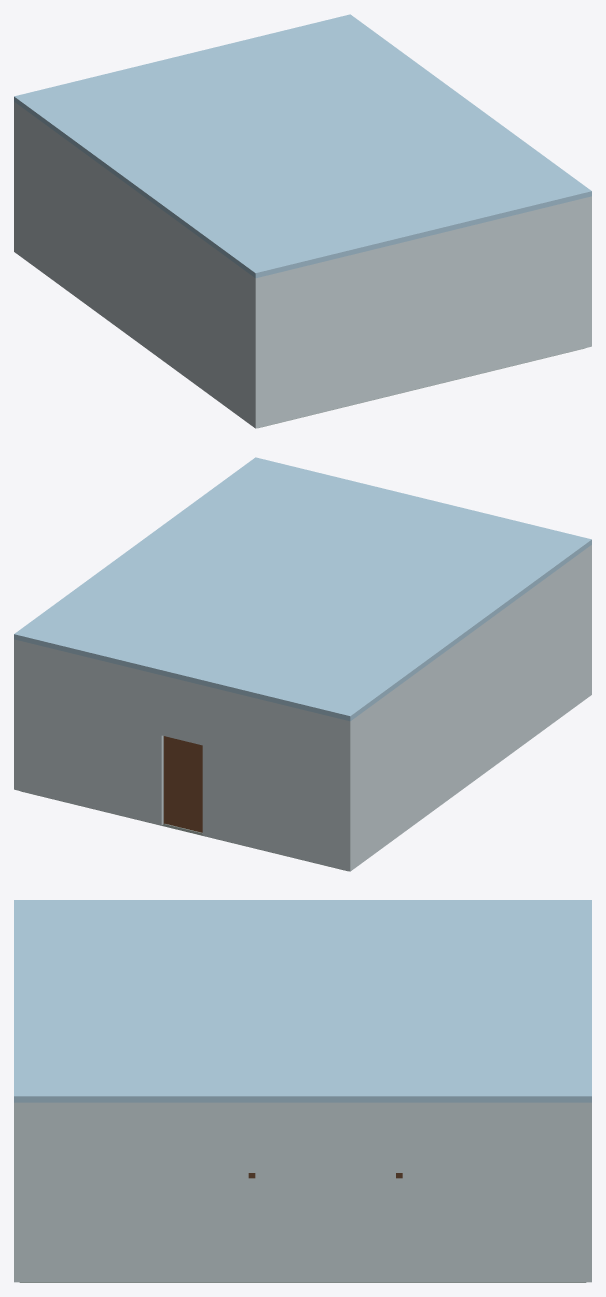
The model's file is room_bath_f2.glb.
3 views of the same model, one above another, from view 1: azimuth 30°, elevation 25°; view 2: azimuth 150°, elevation 25°; view 3: azimuth 270°, elevation 25° (orthographic). The views are drawn at different scales.
Visible parts, largest first — view 1: WALLS, CEILING; view 2: WALLS, CEILING, DOOR_corridor; view 3: CEILING, WALLS, FLOOR_visible.
Boxes of the visible parts, x1=… form: WALLS: x1=14, y1=102, x2=591, y2=428; CEILING: x1=14, y1=14, x2=591, y2=278; WALLS: x1=14, y1=545, x2=591, y2=871; CEILING: x1=14, y1=457, x2=591, y2=721; DOOR_corridor: x1=164, y1=736, x2=202, y2=832; CEILING: x1=14, y1=900, x2=591, y2=1102; WALLS: x1=14, y1=1102, x2=591, y2=1282; FLOOR_visible: x1=19, y1=1282, x2=586, y2=1282.
Bounding box in the file's own units: 8.21 × 3.68 × 10.2.
